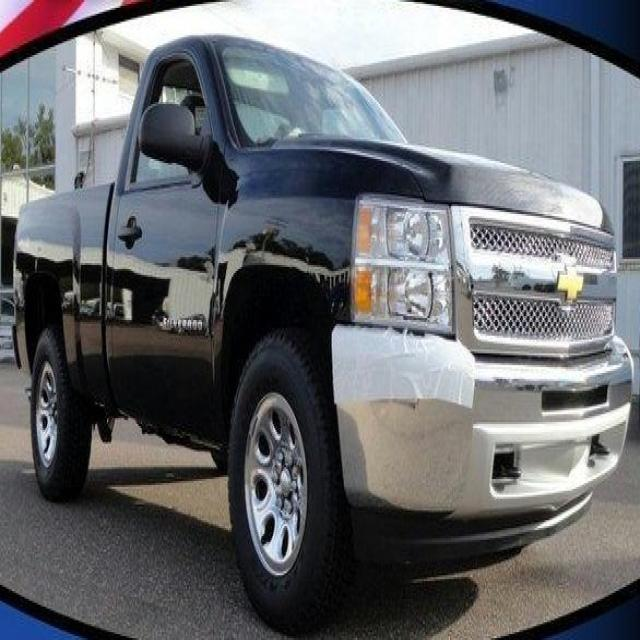CMT: (10, 19, 630, 611)
